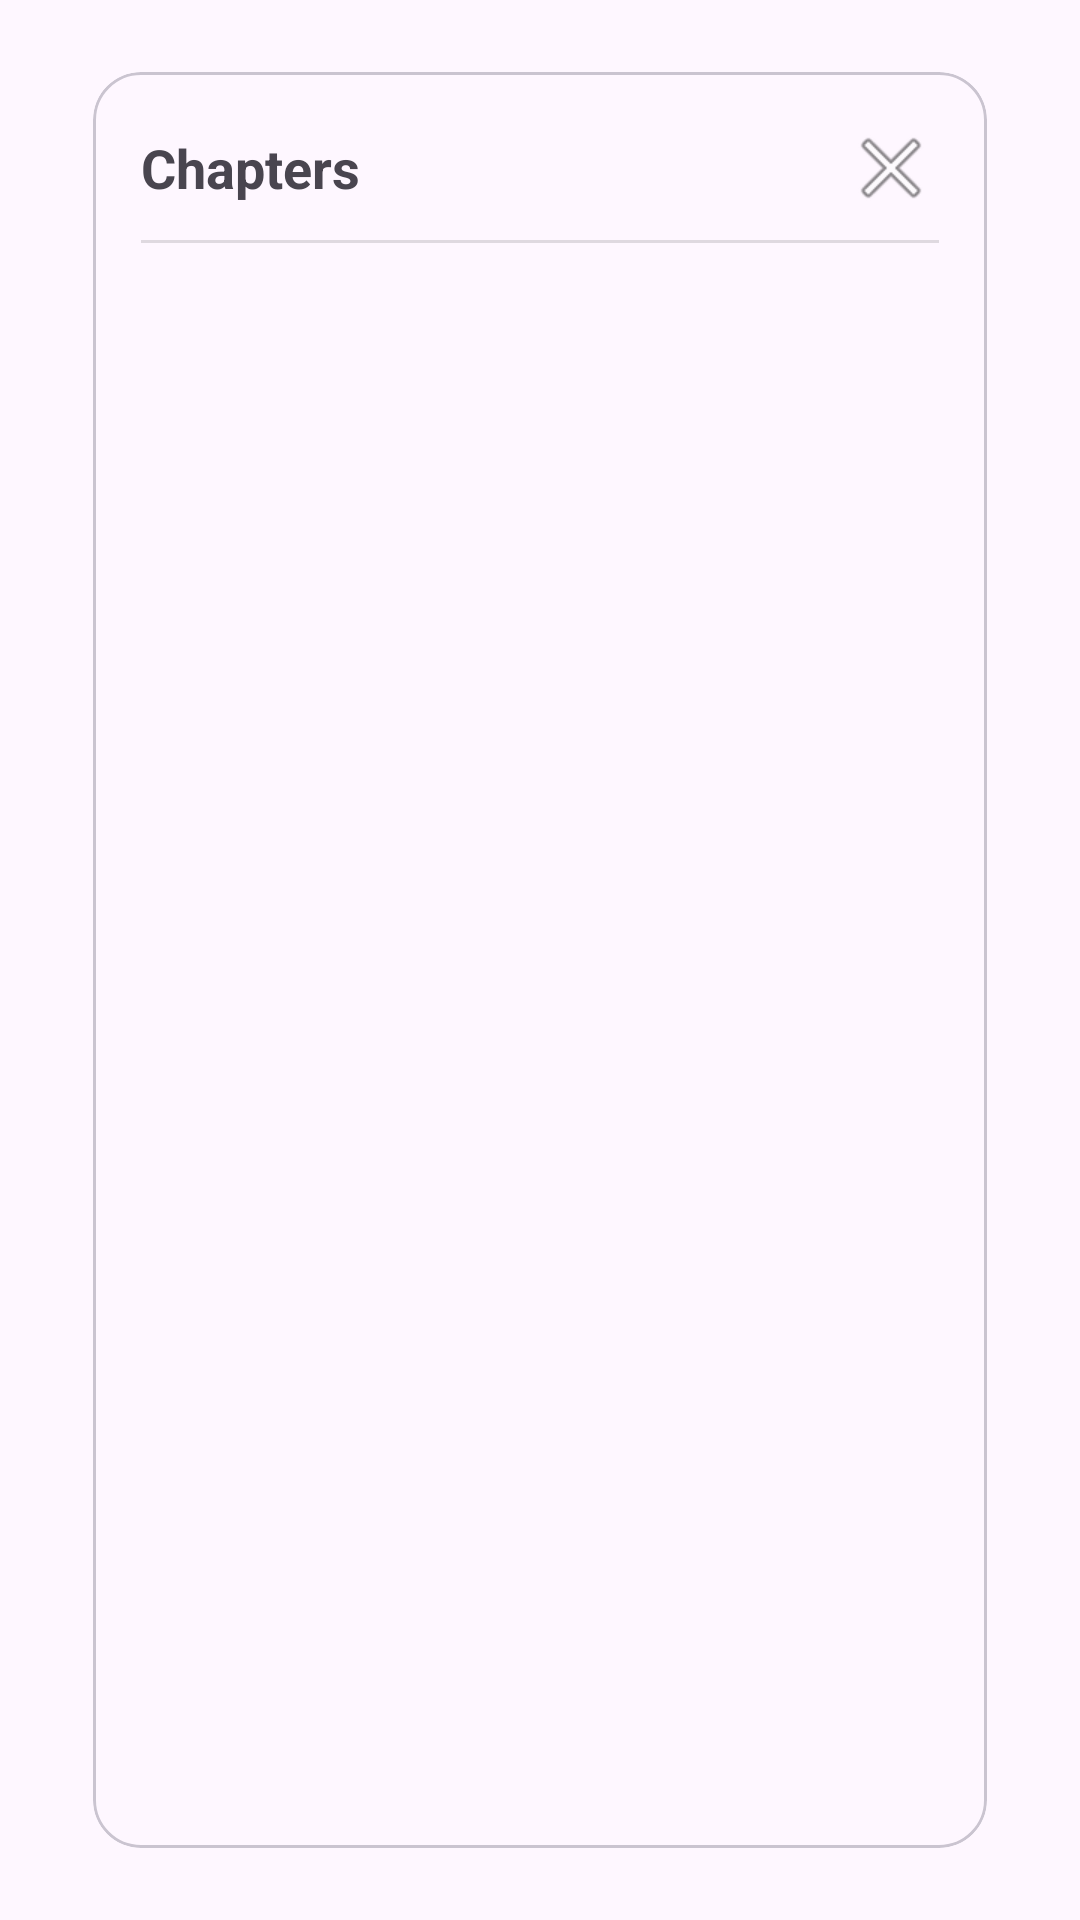

Where icons sit on this 1080px×1920px app screen, as (x1, y1, x2, y2):
close: (861, 138, 921, 198)
